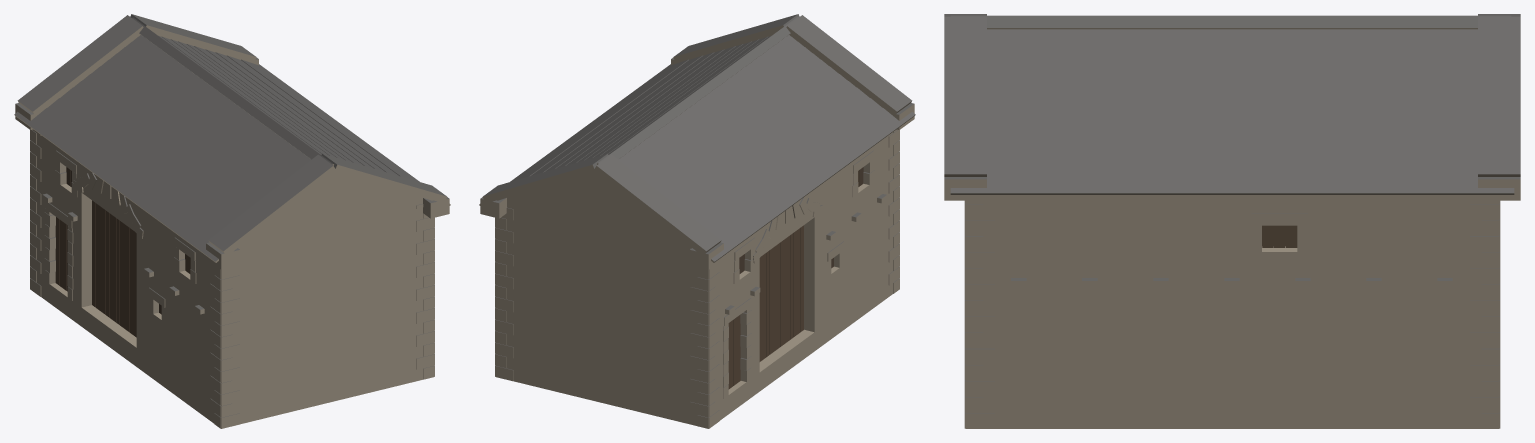
The model's file is context.dales.barn_09.glb.
3 renders of one model, left to right at view 1: azimuth 30°, elevation 25°; view 2: azimuth 150°, elevation 25°; view 3: azimuth 270°, elevation 25°, orthographic. The views are drawn at different scales.
Visible parts, largest first — view 1: main__stone_a98, main__slate_666, main__paint_654; view 2: main__stone_a98, main__slate_666, main__paint_654; view 3: main__stone_a98, main__slate_666, main__paint_654.
Part boxes in pixels (<box>): main__stone_a98: <box>14,25,450,428</box>; main__slate_666: <box>14,14,449,417</box>; main__paint_654: <box>55,200,136,337</box>; main__stone_a98: <box>479,25,915,428</box>; main__slate_666: <box>480,14,915,417</box>; main__paint_654: <box>728,225,803,389</box>; main__stone_a98: <box>944,28,1520,428</box>; main__slate_666: <box>944,14,1520,413</box>; main__paint_654: <box>1262,225,1297,247</box>.
Size of the model in its own units: 6.43 by 6.35 by 9.74.
